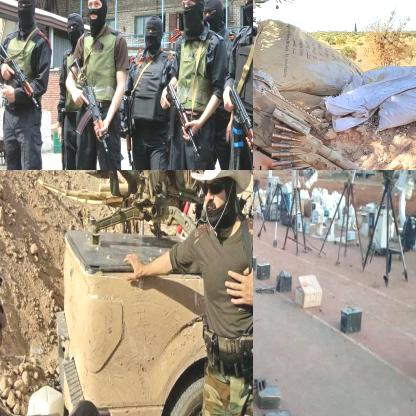rifle: (253, 60, 415, 169), (67, 58, 110, 150), (161, 80, 203, 160), (0, 42, 42, 109), (226, 85, 252, 169), (121, 89, 138, 159)
